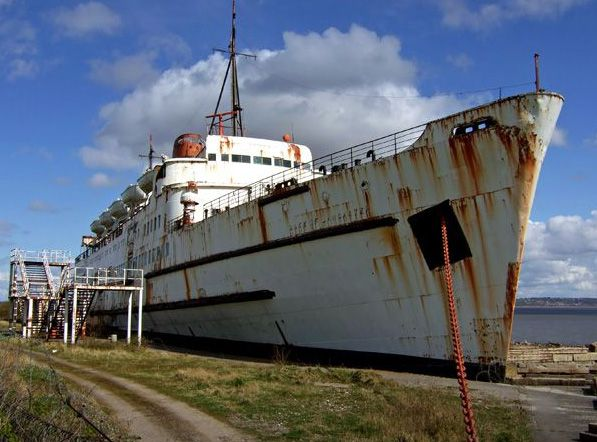rust: (447, 130, 537, 169), (383, 232, 407, 273), (252, 201, 270, 243), (177, 269, 194, 299)
